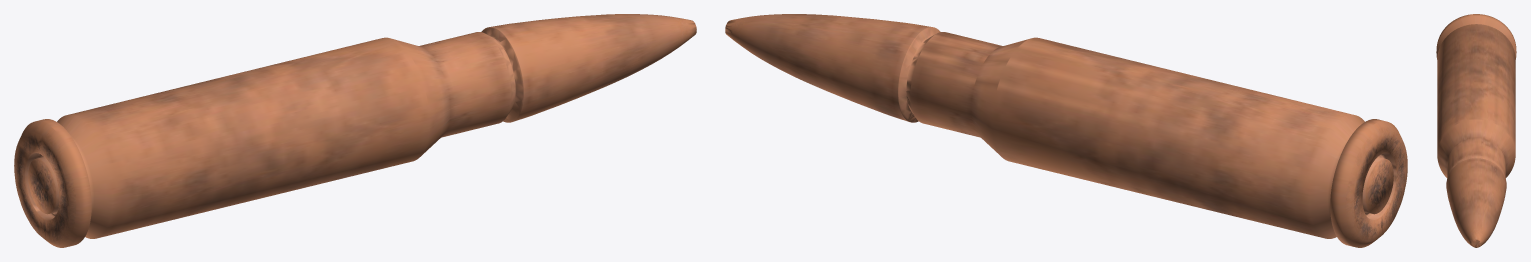
Rendered from bullet_556.glb.
The picture shows the model from 3 angles, left to right: view 1: azimuth 30°, elevation 25°; view 2: azimuth 150°, elevation 25°; view 3: azimuth 270°, elevation 25°; orthographic projection. The views are drawn at different scales.
Visible parts, largest first — view 1: Bullet_lambert1_0; view 2: Bullet_lambert1_0; view 3: Bullet_lambert1_0.
Boxes of the visible parts, <box> form: Bullet_lambert1_0: <box>14,14,696,247</box>; Bullet_lambert1_0: <box>725,14,1407,247</box>; Bullet_lambert1_0: <box>1436,14,1516,247</box>.
Bounding box in the file's own units: 11.67 × 2.02 × 2.02.
1 material, 1 textured.
